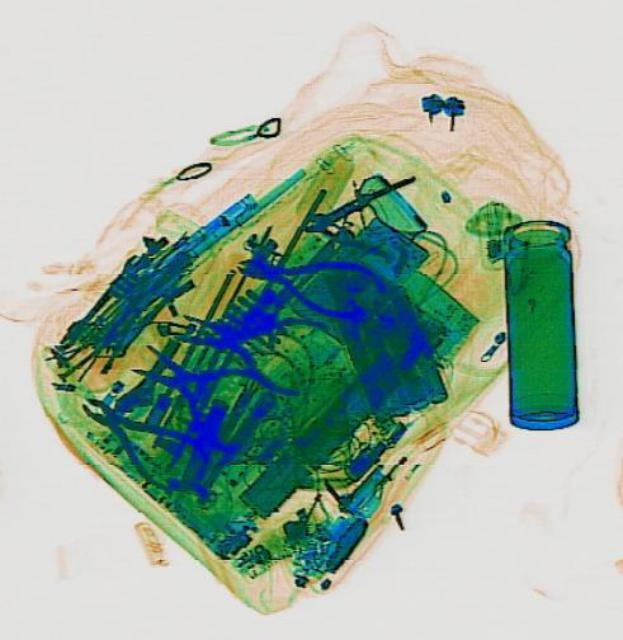Pliers: (113, 320, 293, 462), (63, 373, 218, 502), (164, 284, 329, 401), (229, 233, 388, 327)
